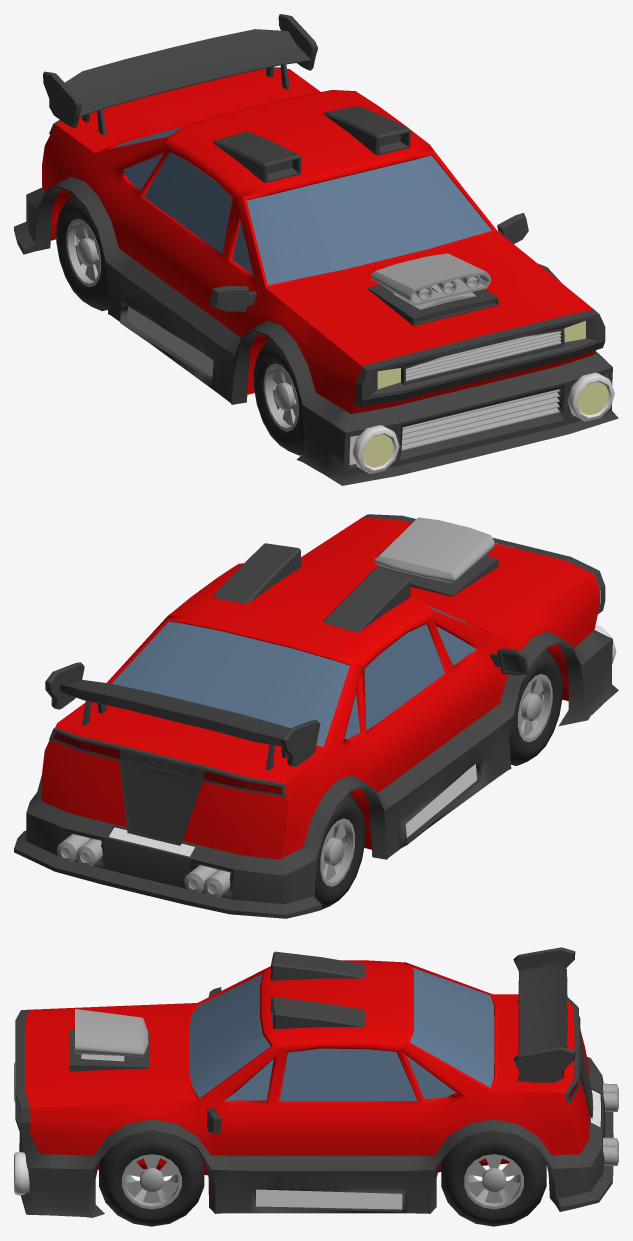
File: muscle_standart.glb
3 renders of one model, top to bottom at view 1: azimuth 30°, elevation 25°; view 2: azimuth 150°, elevation 25°; view 3: azimuth 270°, elevation 25°, orthographic. The views are drawn at different scales.
Visible parts, largest first — view 1: body:PIV, sill4:PIV, frontGlass:PIV, Spoiler4:PIV, frontBlockGrid:PIV, glasseBigR:PIV, engine:PIV, front_down_grid:PIV, airtrap_r:PIV, airtrap_l:PIV, front_up_grid:PIV, tire_rf:PIV (+12 smaller); view 2: body:PIV, sill4:PIV, BackGlassGlass:PIV, Spoiler4:PIV, blockBackLights:PIV, engine:PIV, glasseBigR:PIV, airtrap_r:PIV, airtrap_l:PIV, tire_rf2:PIV, tire_rf:PIV, rim_A_rf:PIV (+10 smaller); view 3: body:PIV, sill4:PIV, BackGlassGlass:PIV, Spoiler4:PIV, glasseBigL:PIV, frontGlass:PIV, tire_lf:PIV, tire_lb:PIV, engine:PIV, sillPartL:PIV, rim_A_lf:PIV, rim_A_lb:PIV (+10 smaller).
Boxes of the visible parts, box(x1,y1,x2,y2) form: body:PIV: box(42, 69, 595, 413); sill4:PIV: box(14, 176, 618, 485); frontGlass:PIV: box(246, 155, 491, 285); Spoiler4:PIV: box(43, 14, 317, 135); frontBlockGrid:PIV: box(354, 309, 605, 407); glasseBigR:PIV: box(144, 152, 232, 253); engine:PIV: box(370, 253, 490, 309); front_down_grid:PIV: box(401, 389, 559, 450); airtrap_r:PIV: box(213, 131, 301, 182); airtrap_l:PIV: box(323, 106, 410, 155); front_up_grid:PIV: box(406, 331, 561, 381); tire_rf:PIV: box(56, 194, 109, 311); body:PIV: box(42, 517, 599, 859); sill4:PIV: box(14, 630, 618, 918); BackGlassGlass:PIV: box(111, 621, 349, 746); Spoiler4:PIV: box(45, 662, 320, 770); blockBackLights:PIV: box(49, 727, 286, 845); engine:PIV: box(374, 517, 494, 583); glasseBigR:PIV: box(364, 624, 444, 730); airtrap_r:PIV: box(323, 567, 410, 632); airtrap_l:PIV: box(213, 543, 301, 603); tire_rf2:PIV: box(509, 648, 562, 765); tire_rf:PIV: box(315, 793, 365, 909); rim_A_rf:PIV: box(517, 674, 552, 742); body:PIV: box(25, 960, 589, 1200); sill4:PIV: box(19, 1056, 613, 1217); BackGlassGlass:PIV: box(410, 967, 494, 1087); Spoiler4:PIV: box(513, 947, 575, 1082); glasseBigL:PIV: box(279, 1048, 417, 1101); frontGlass:PIV: box(189, 974, 270, 1098); tire_lf:PIV: box(99, 1132, 204, 1226); tire_lb:PIV: box(441, 1132, 546, 1226); engine:PIV: box(75, 1009, 148, 1061); sillPartL:PIV: box(256, 1189, 402, 1209); rim_A_lf:PIV: box(122, 1154, 181, 1209); rim_A_lb:PIV: box(464, 1154, 523, 1209).
Bounding box in the file's own units: 177 × 120 × 337.
